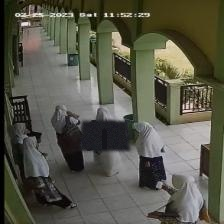Cadar_Niqab: (79, 106, 129, 150)
